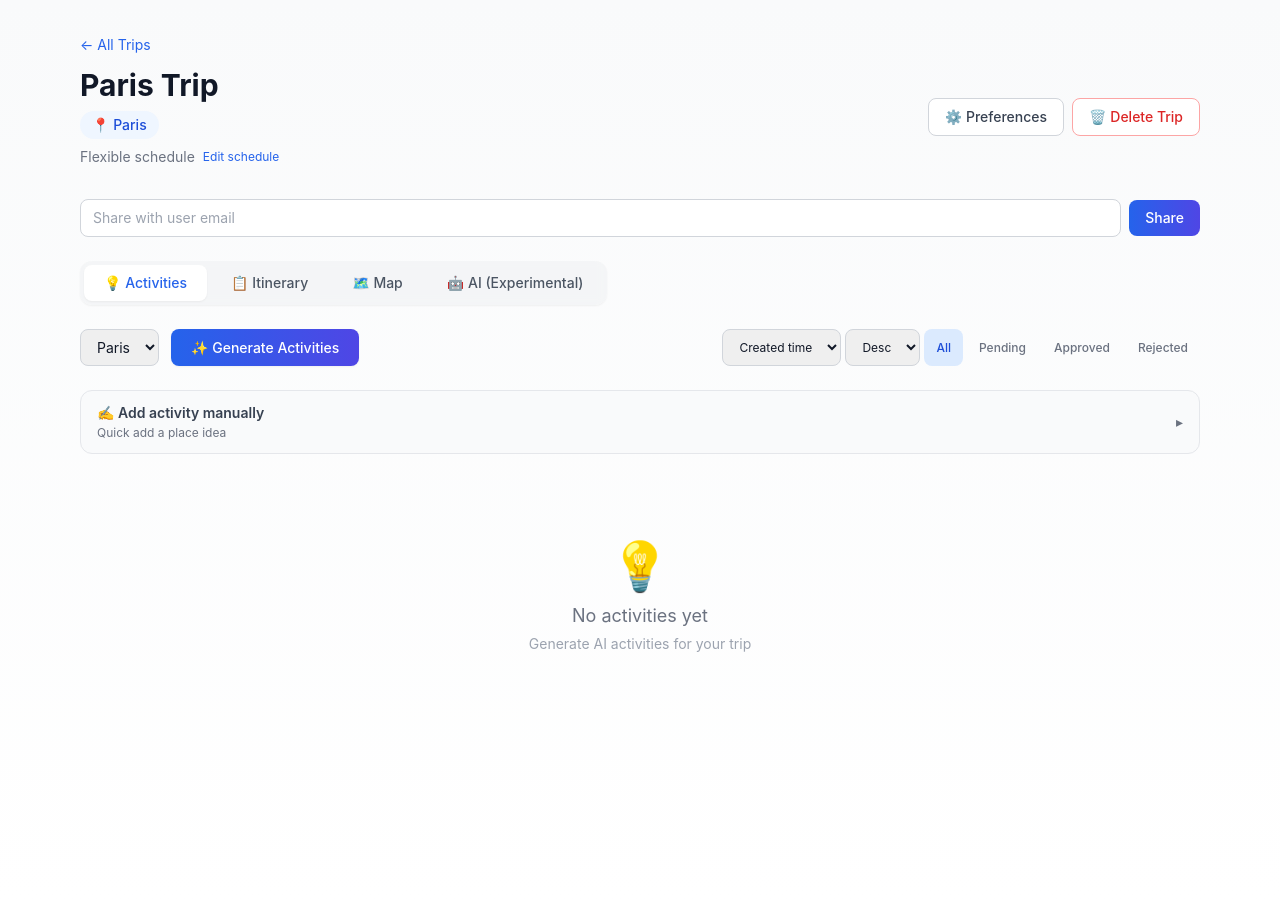
Test: Trip detail manual activity form › is collapsed by default and auto-collapses after successful submit
Expected: the heading "Paris Trip" is shown, top-left (80, 67), bottom-right (219, 103)
Expected: the field with placeholder "Title" is not shown
Click the button "✍️ Add activity manually Quick add a place idea ▸": (181, 412) top-left (81, 391), bottom-right (1199, 453)
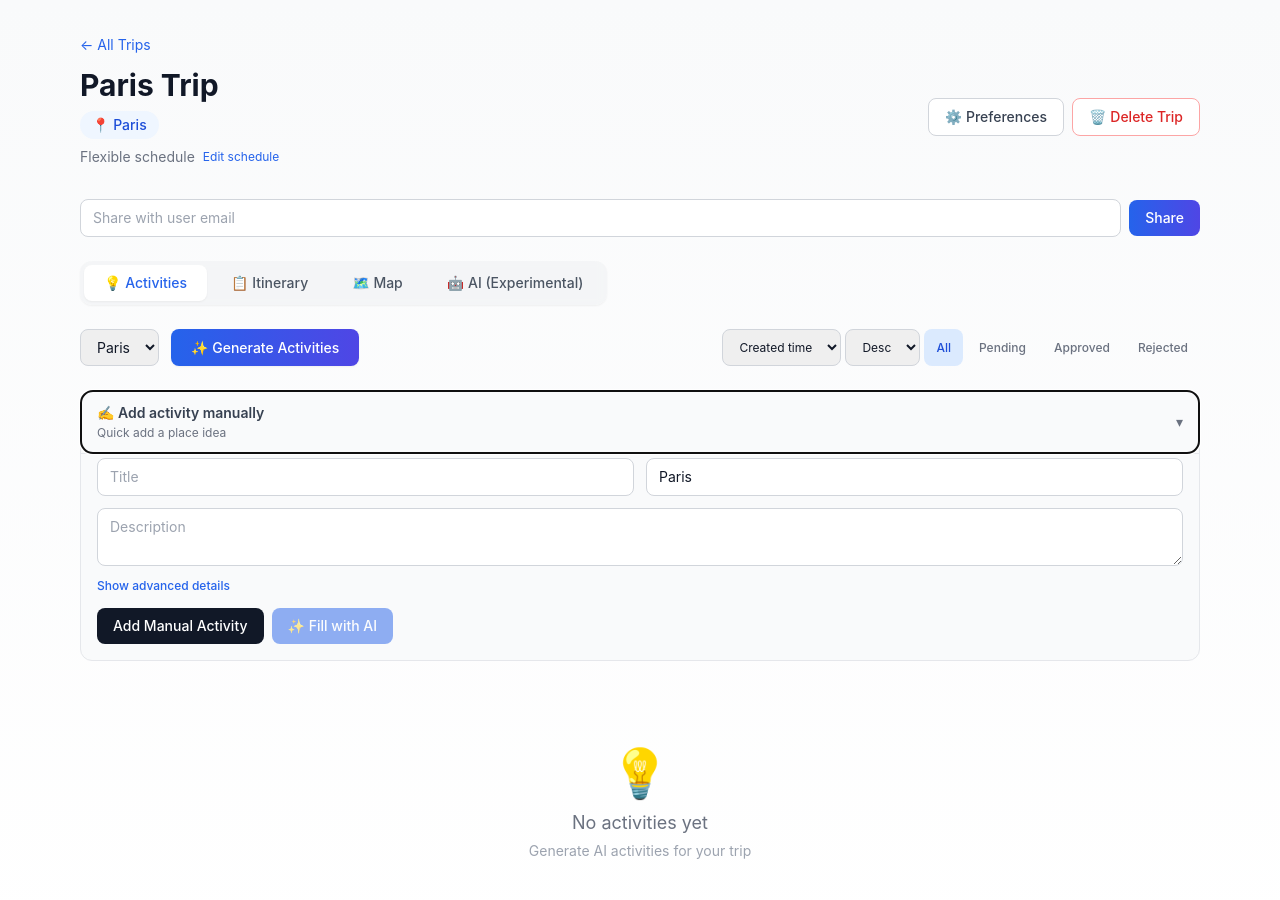
Result: the field with placeholder "Title" is shown
In the field with placeholder "Title": (366, 477) top-left (97, 458), bottom-right (634, 496), type "Louvre Museum"
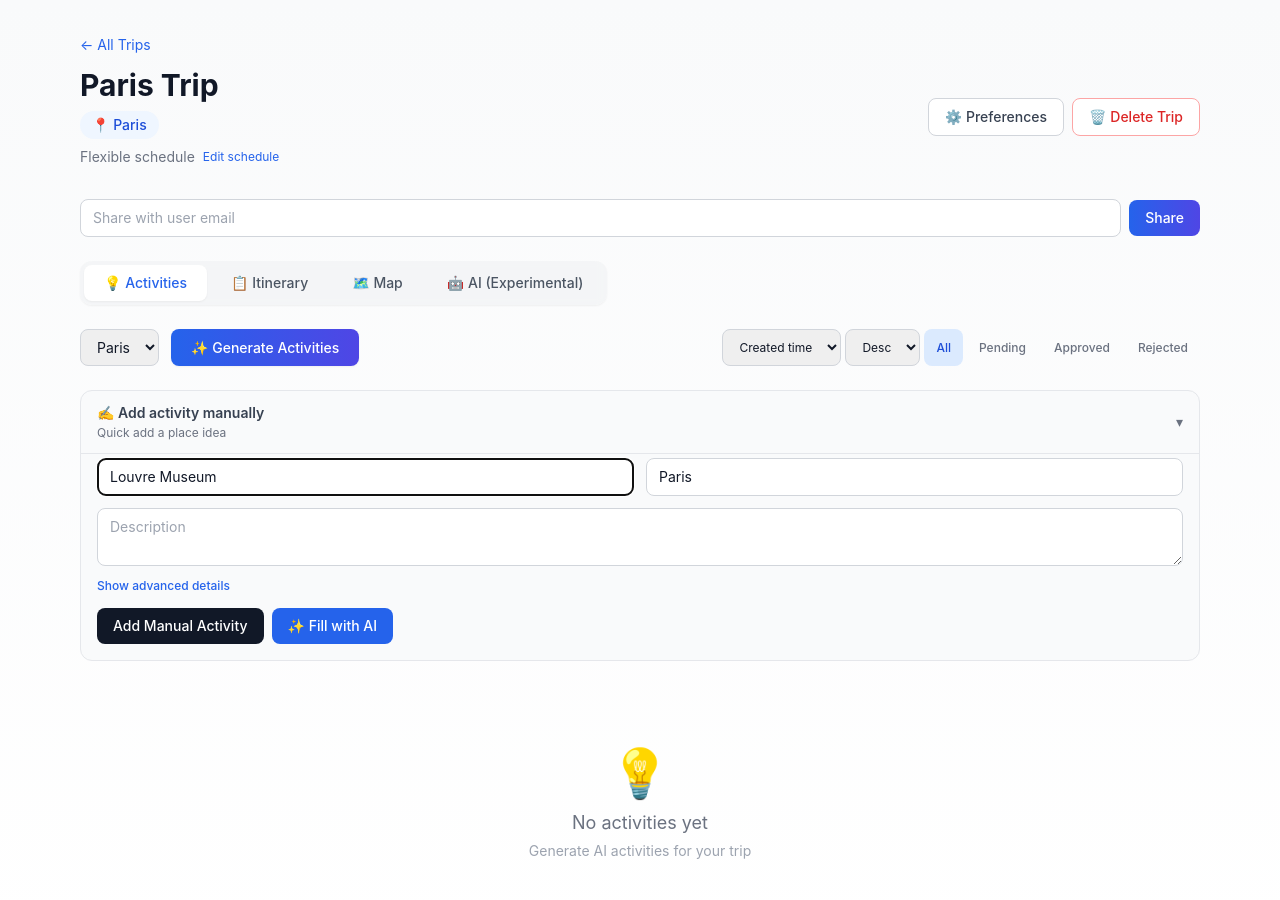
In the text box with placeholder "Description": (640, 537) top-left (97, 508), bottom-right (1183, 566), type "Great museum"
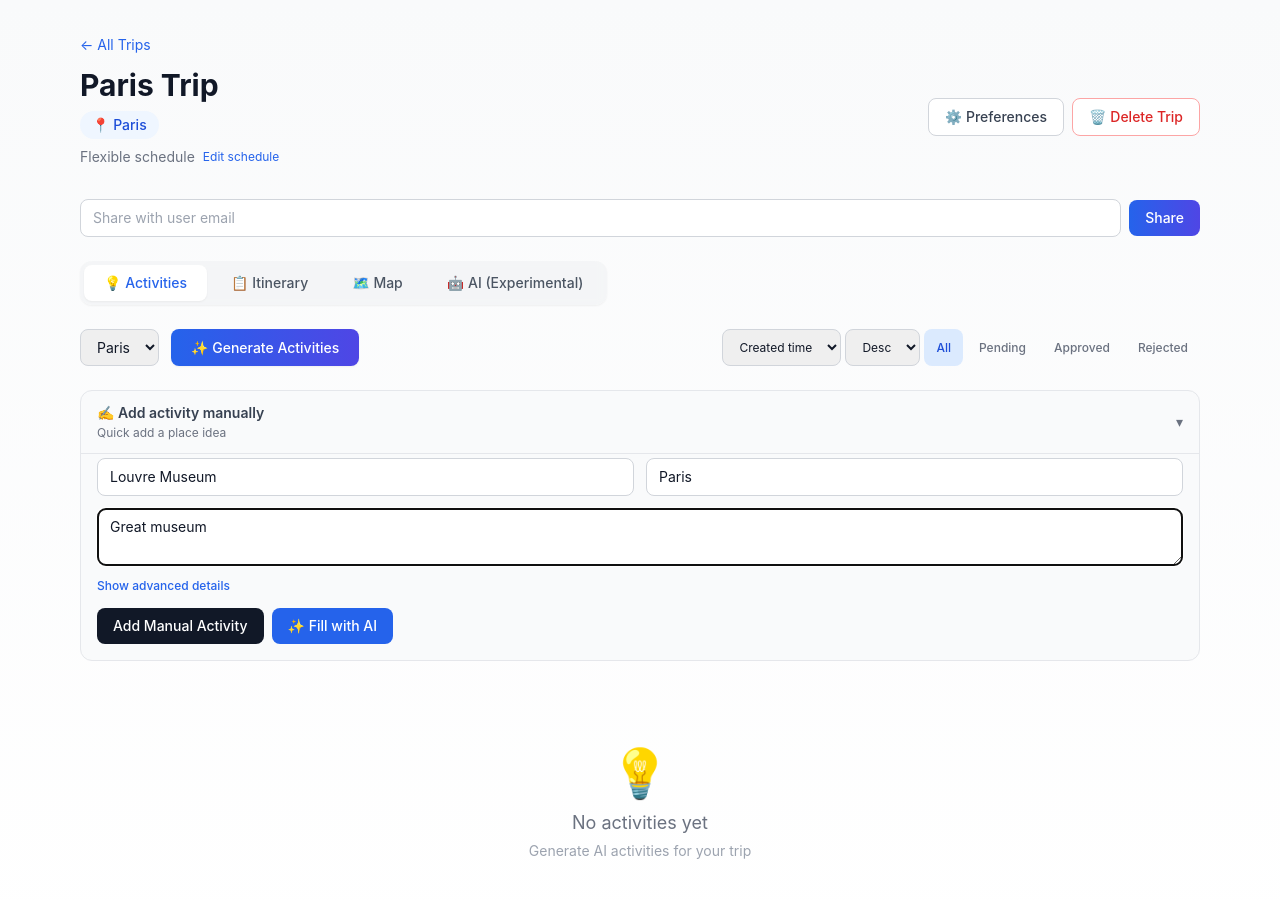
Click the button "Add Manual Activity": (180, 626) top-left (97, 608), bottom-right (264, 644)
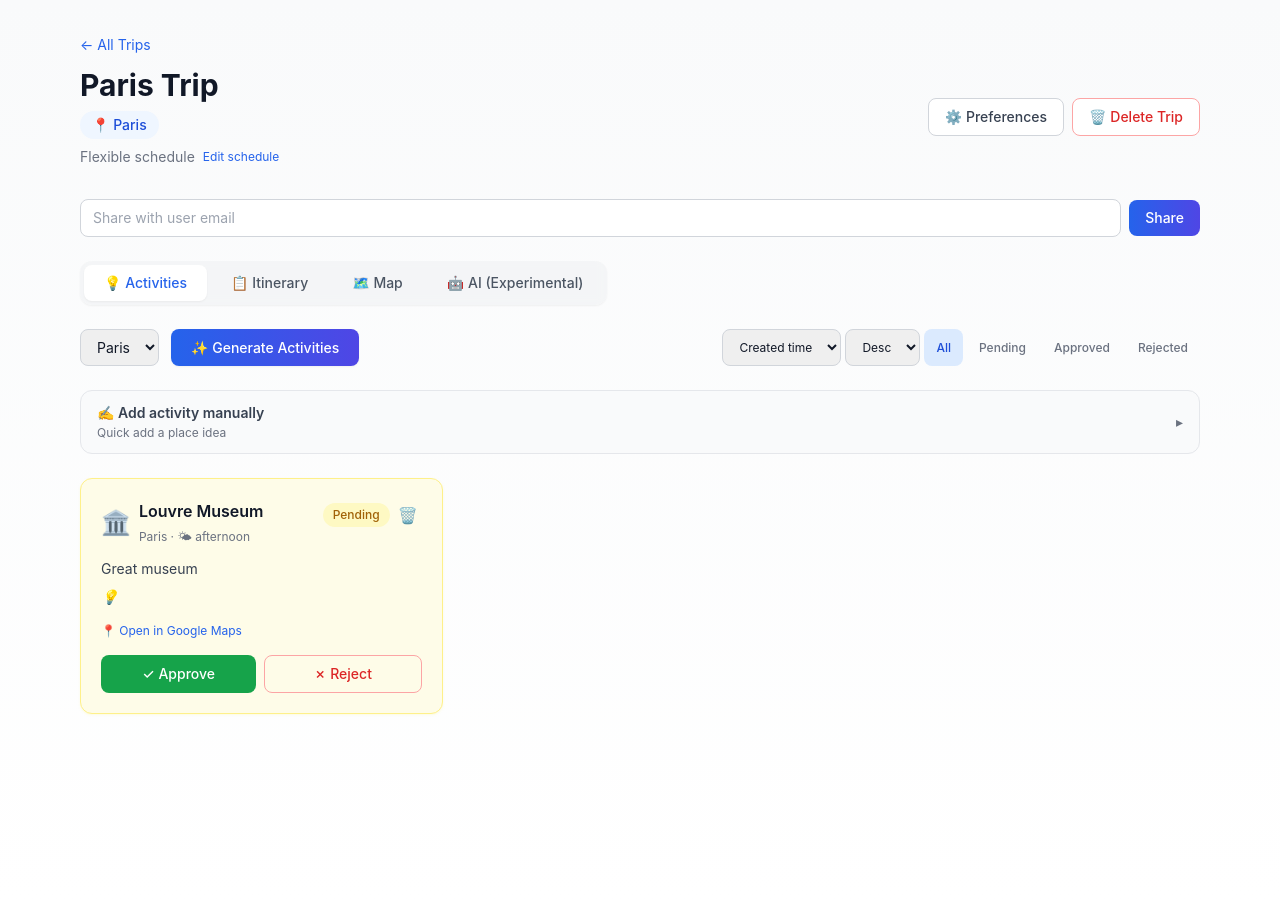
Result: the field with placeholder "Title" is gone
